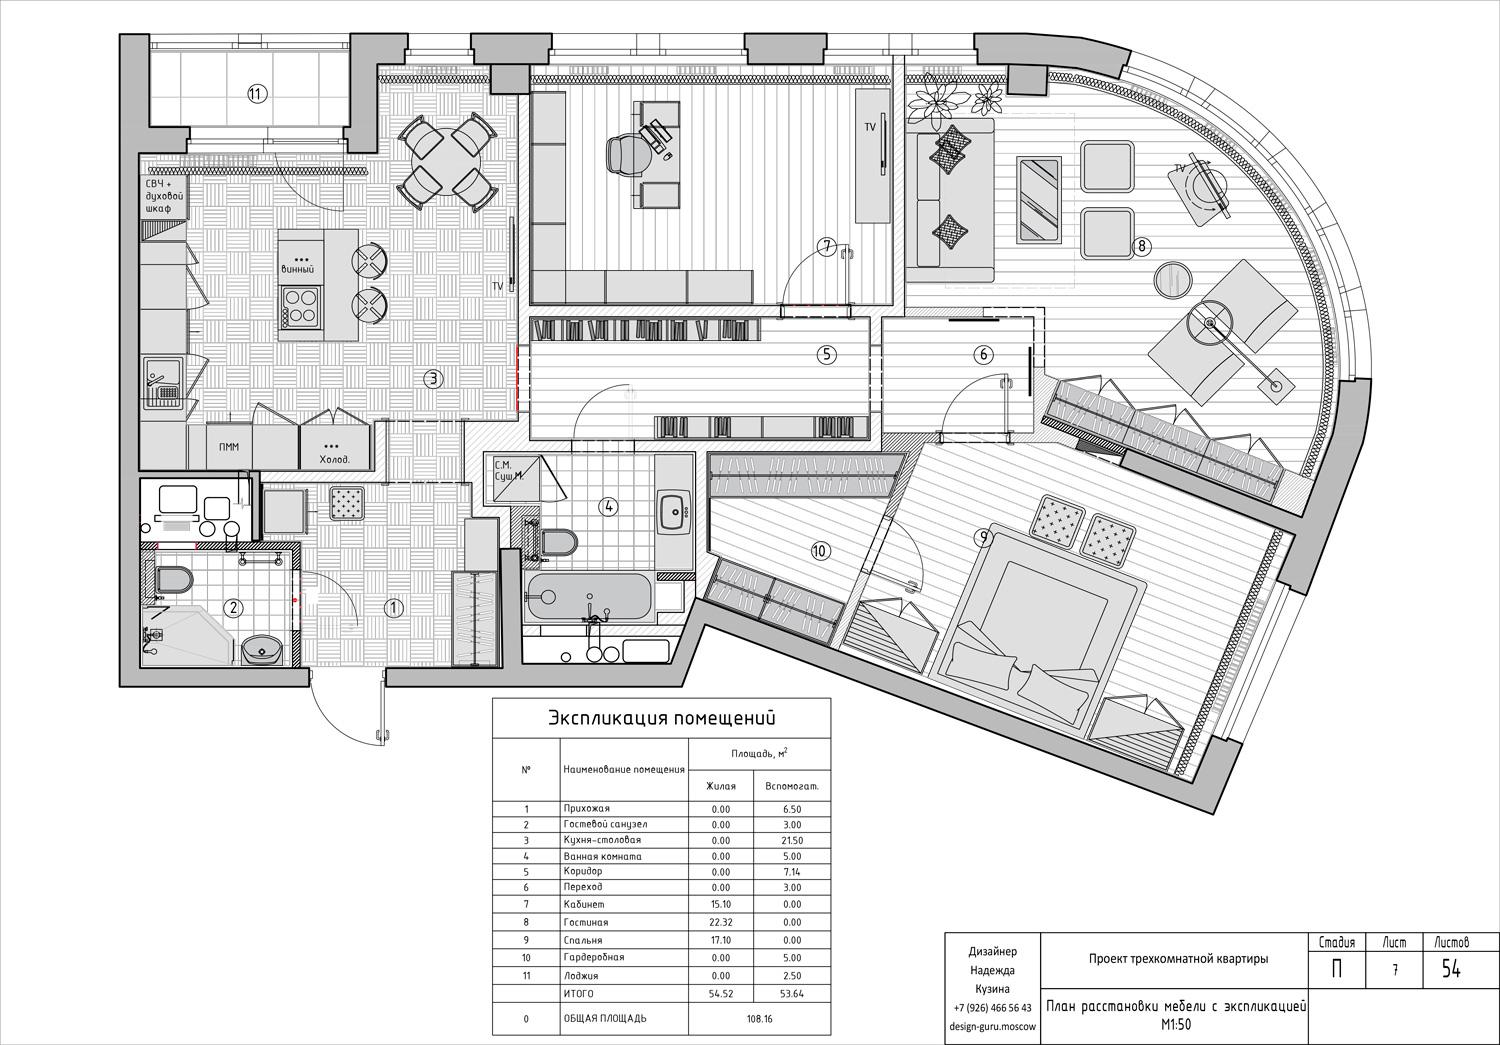balcony: (149, 43, 351, 126)
bathroom: (484, 452, 697, 664), (140, 550, 292, 667)
bedroom: (838, 443, 1296, 784)
hallway: (529, 317, 1034, 440), (260, 421, 500, 669)
home_office: (528, 65, 895, 304)
kitchen: (138, 64, 519, 471)
living_room: (903, 64, 1342, 519)
utility_room: (140, 478, 253, 542)
walk_in_closet: (706, 452, 908, 646)
